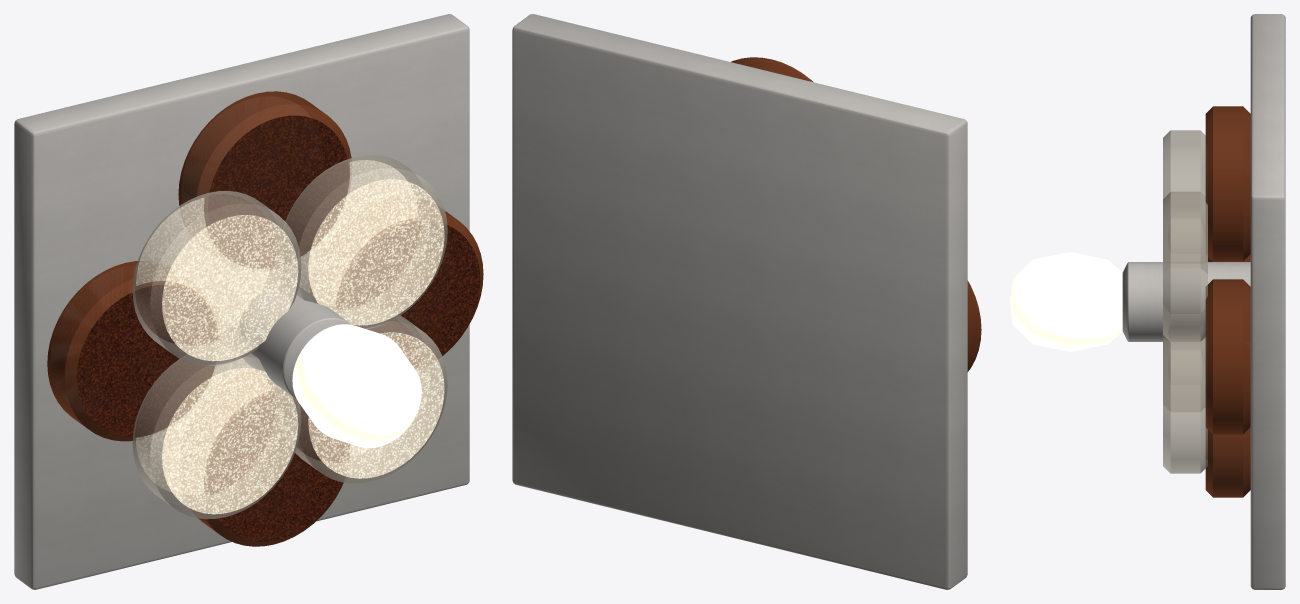
Rendered from bauhaus-glass-flower-wall-lamp-textured-disc-sconce.glb.
3 renders of one model, left to right at view 1: azimuth 30°, elevation 25°; view 2: azimuth 150°, elevation 25°; view 3: azimuth 270°, elevation 25°, orthographic. The views are drawn at different scales.
Parts seen in each view (by area): view 1: Plate, I_discclear__001, I_discred__002, I_discclear__002, I_discclear__000, I_discred__001, I_discred__003, Bulb, I_discred__000, I_discclear__003, Hub; view 2: Plate, I_discred__002, I_discred__001; view 3: Plate, Bulb, I_discred__000, I_discred__001, Hub, I_discclear__000, I_discclear__003, I_discclear__001, I_discred__003, I_discclear__002.
Part boxes in pixels (left/top/right/bottom): Plate: left=14, top=14, right=469, bottom=589; I_discclear__001: left=132, top=190, right=300, bottom=365; I_discred__002: left=47, top=261, right=220, bottom=441; I_discclear__002: left=132, top=344, right=300, bottom=519; I_discclear__000: left=279, top=155, right=447, bottom=328; I_discred__001: left=178, top=91, right=351, bottom=269; I_discred__003: left=185, top=391, right=349, bottom=546; Bulb: left=292, top=324, right=421, bottom=448; I_discred__000: left=310, top=200, right=483, bottom=368; I_discclear__003: left=279, top=308, right=447, bottom=483; Hub: left=221, top=271, right=351, bottom=399; Plate: left=512, top=14, right=967, bottom=589; I_discred__002: left=967, top=280, right=981, bottom=371; I_discred__001: left=731, top=57, right=813, bottom=82; Plate: left=1250, top=14, right=1285, bottom=589; Bulb: left=1010, top=252, right=1122, bottom=351; I_discred__000: left=1205, top=279, right=1250, bottom=434; I_discred__001: left=1205, top=106, right=1250, bottom=261; Hub: left=1122, top=262, right=1250, bottom=341; I_discclear__000: left=1163, top=191, right=1207, bottom=341; I_discclear__003: left=1163, top=324, right=1207, bottom=473; I_discclear__001: left=1163, top=130, right=1205, bottom=261; I_discred__003: left=1205, top=427, right=1250, bottom=497; I_discclear__002: left=1163, top=342, right=1204, bottom=411.
Bounding box in the file's own units: 0.221 × 0.221 × 0.1397.
Materials: 6 (3 with a texture image).
